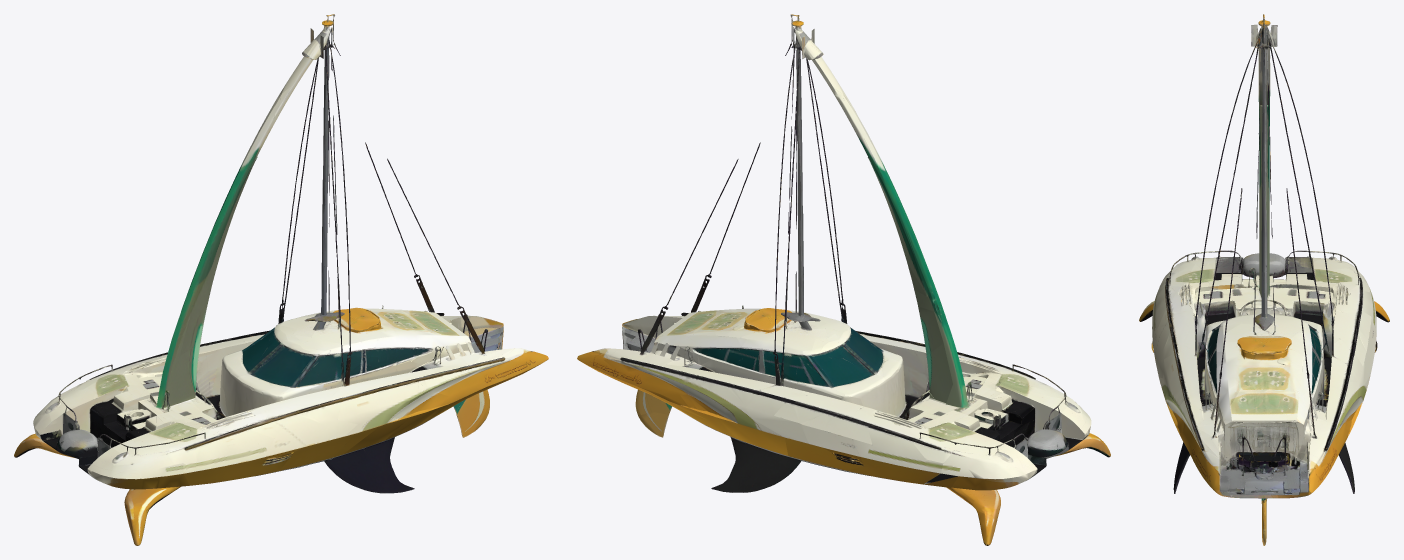
File: ocean-catamaran-mesh.glb
The picture shows the model from 3 angles, left to right: view 1: azimuth 30°, elevation 25°; view 2: azimuth 150°, elevation 25°; view 3: azimuth 270°, elevation 25°; orthographic projection.
Parts seen in each view (by area): view 1: Mesh_0; view 2: Mesh_0; view 3: Mesh_0.
Boxes of the visible parts, x1,y1,x2,y2 form: Mesh_0: [14, 14, 548, 545]; Mesh_0: [577, 14, 1110, 545]; Mesh_0: [1139, 14, 1389, 545].
Size of the model in its own units: 1.9 by 1.78 by 0.8765.
Materials: 1 (1 with a texture image).
